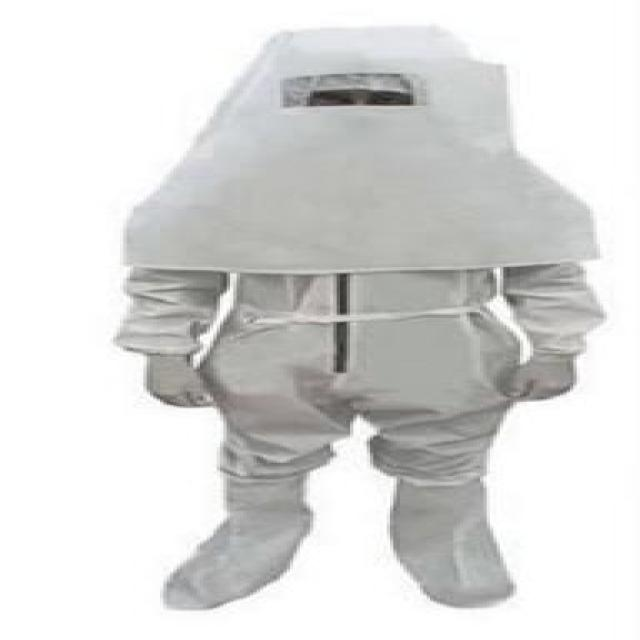Coverall: (113, 19, 610, 618)
Gloves: (137, 349, 220, 410), (500, 356, 580, 409)
